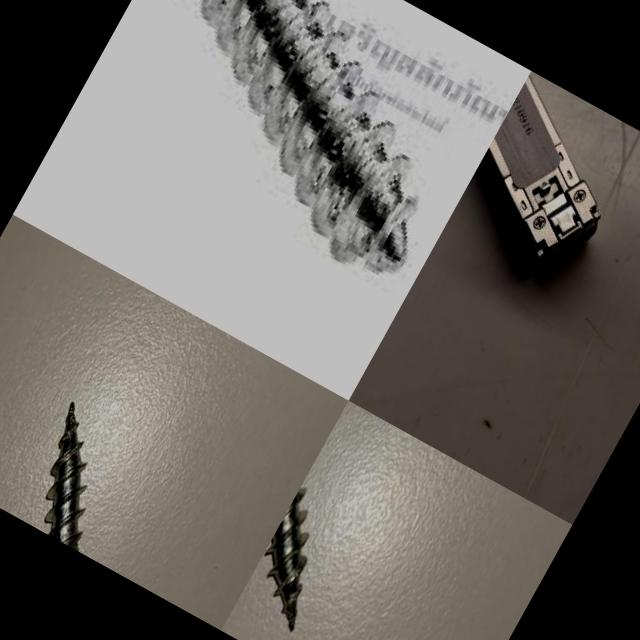Screw: (197, 0, 425, 278), (45, 402, 86, 552), (265, 487, 308, 630)
